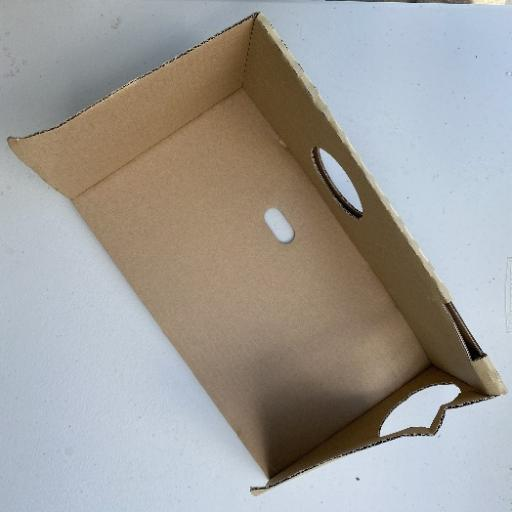Cardboard: (6, 11, 507, 491)
